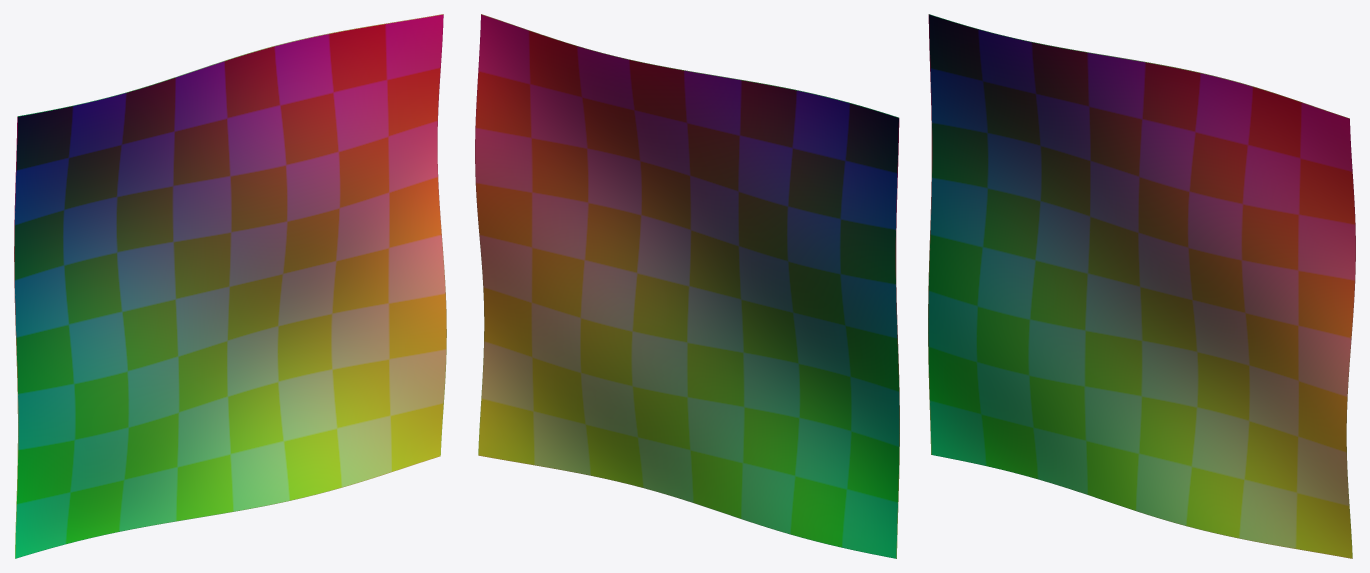
The model's file is Tile_+002_+012.obj.
3 renders of one model, left to right at view 1: azimuth 30°, elevation 25°; view 2: azimuth 150°, elevation 25°; view 3: azimuth 330°, elevation 25°, orthographic.
Size of the model in its own units: 100 by 100 by 6.17.
